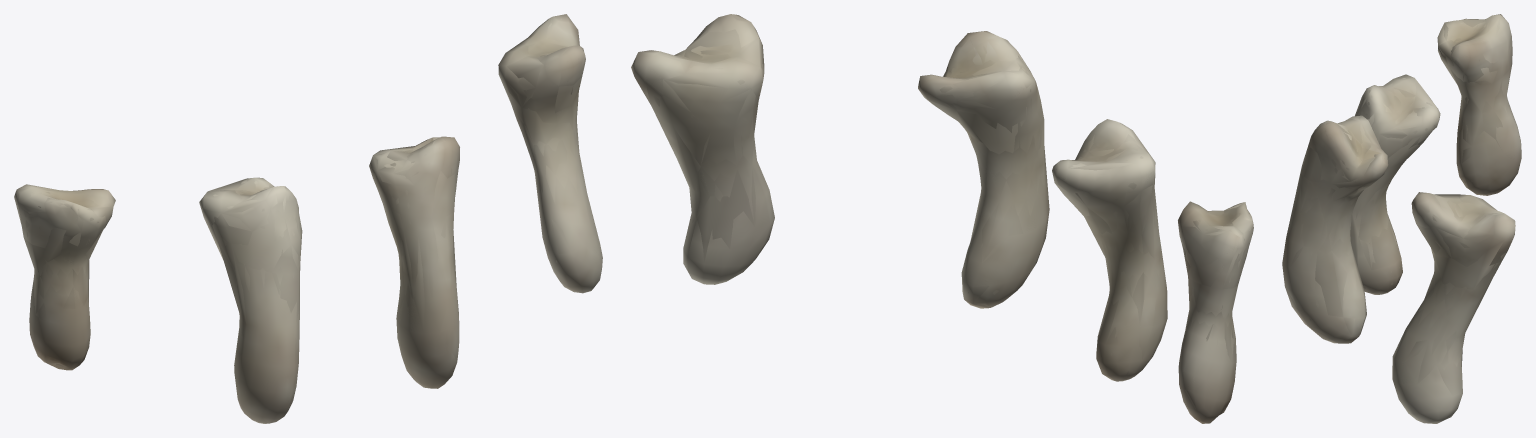
Rendered from RF 2nd Phalanx.fbx.
3 renders of one model, left to right at view 1: azimuth 30°, elevation 25°; view 2: azimuth 150°, elevation 25°; view 3: azimuth 270°, elevation 25°, orthographic. The views are drawn at different scales.
Parts seen in each view (by area): view 1: RF 2nd Phalanx, RF 2nd Phalanx low, RF 2nd Phalanx high; view 2: RF 2nd Phalanx, RF 2nd Phalanx low, RF 2nd Phalanx high; view 3: RF 2nd Phalanx, RF 2nd Phalanx low, RF 2nd Phalanx high.
Part boxes in pixels (x1=…): RF 2nd Phalanx: x1=17, y1=14, x2=602, y2=423; RF 2nd Phalanx low: x1=14, y1=14, x2=598, y2=423; RF 2nd Phalanx high: x1=17, y1=18, x2=585, y2=400; RF 2nd Phalanx: x1=631, y1=14, x2=1253, y2=423; RF 2nd Phalanx low: x1=632, y1=14, x2=1253, y2=423; RF 2nd Phalanx high: x1=651, y1=30, x2=1250, y2=413; RF 2nd Phalanx: x1=1282, y1=14, x2=1521, y2=423; RF 2nd Phalanx low: x1=1283, y1=14, x2=1520, y2=409; RF 2nd Phalanx high: x1=1297, y1=19, x2=1511, y2=392.
Bounding box in the file's own units: 2.05 × 0.956 × 0.844.
1 material, 1 textured.
